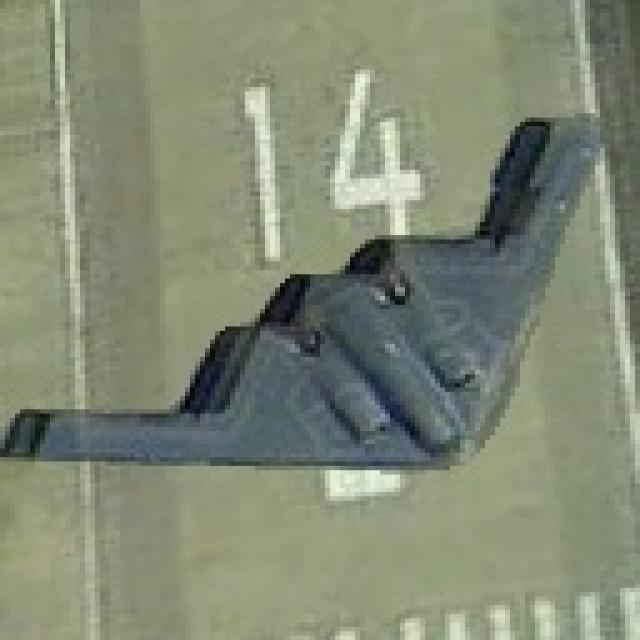B-2_TopDown: (0, 104, 610, 479)
